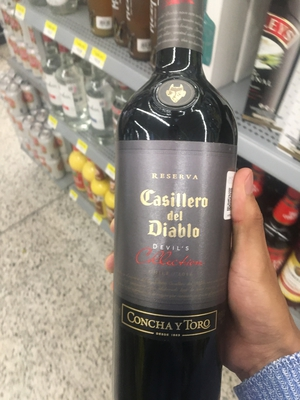casillero del diablo devils collection rojo: (110, 15, 237, 400)
